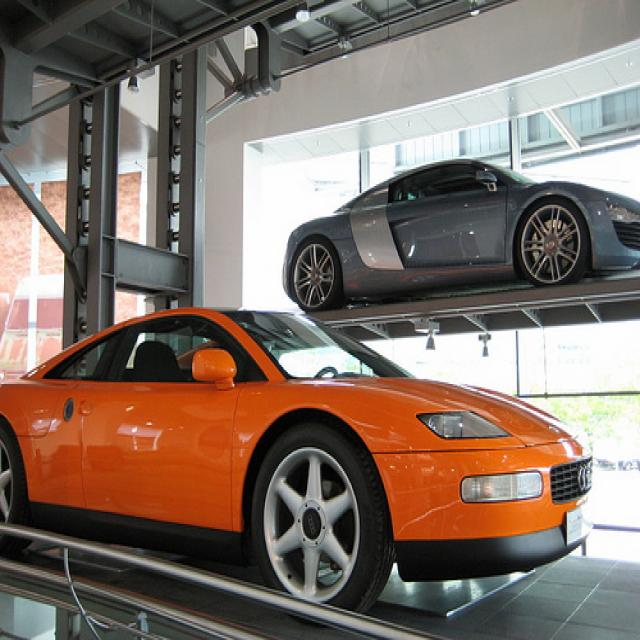Car: (0, 306, 592, 615), (281, 144, 637, 318)
